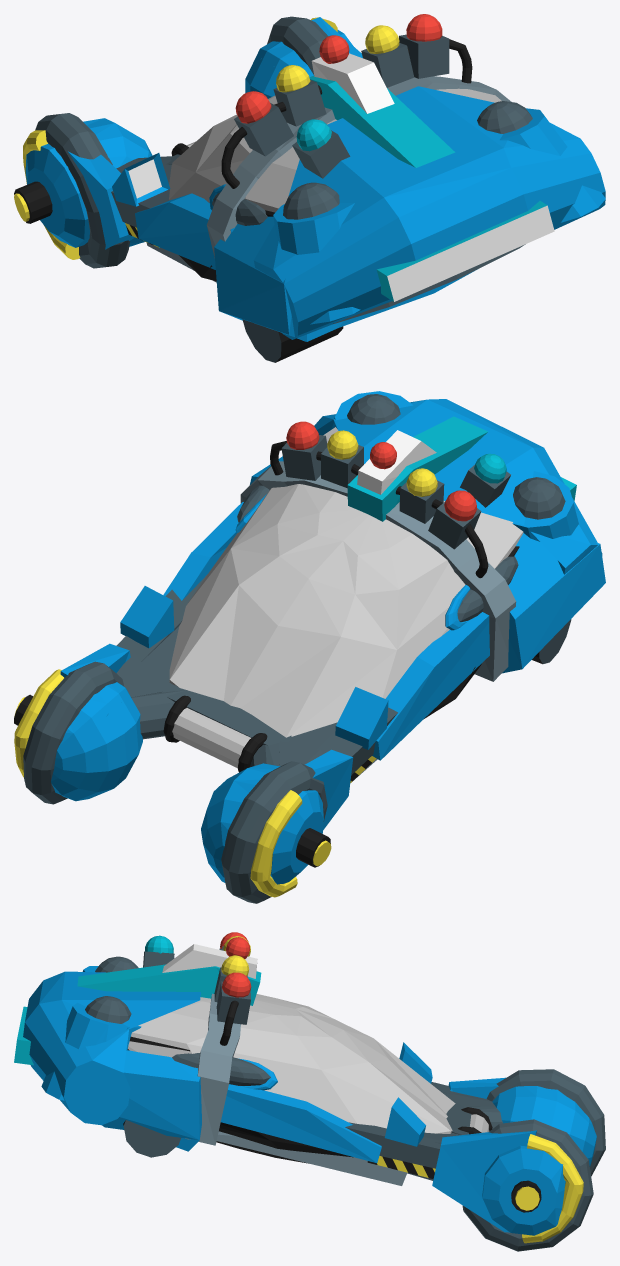
The model's file is bladerunner.fbx.
The picture shows the model from 3 angles, top to bottom: view 1: azimuth 30°, elevation 25°; view 2: azimuth 150°, elevation 25°; view 3: azimuth 270°, elevation 25°; orthographic projection. The views are drawn at different scales.
Visible parts, largest first — view 1: mesh_1991987378, mesh_1601816670, mesh_1183108955, mesh_1054601401, mesh_1691067437, mesh_1933850750, mesh_50693872, mesh_1442787304, mesh_326157511, mesh_865573290, mesh_159223930, mesh_1015086131 (+27 smaller); view 2: mesh_1183108955, mesh_1991987378, mesh_1601816670, mesh_1735434096, mesh_50693872, mesh_1933850750, mesh_552325141, mesh_326157511, mesh_1691067437, mesh_221063801, mesh_1442787304, mesh_1106189456 (+30 smaller); view 3: mesh_1183108955, mesh_1991987378, mesh_1601816670, mesh_343004383, mesh_1815929344, mesh_1897224036, mesh_221063801, mesh_552325141, mesh_877137086, mesh_1691067437, mesh_1933850750, mesh_1855935953 (+20 smaller).
Boxes of the visible parts, x1,y1,x2,y2 form: mesh_1991987378: [254, 86, 605, 339]; mesh_1601816670: [214, 216, 474, 341]; mesh_1183108955: [169, 88, 501, 212]; mesh_1054601401: [376, 201, 554, 301]; mesh_1691067437: [309, 75, 455, 167]; mesh_1933850750: [35, 113, 130, 268]; mesh_50693872: [135, 193, 234, 269]; mesh_1442787304: [25, 144, 89, 247]; mesh_326157511: [206, 107, 335, 258]; mesh_865573290: [273, 203, 360, 324]; mesh_159223930: [311, 53, 394, 113]; mesh_1015086131: [67, 151, 134, 249]; mesh_1183108955: [169, 427, 523, 737]; mesh_1991987378: [314, 399, 602, 574]; mesh_1601816670: [250, 456, 605, 673]; mesh_1735434096: [51, 682, 142, 801]; mesh_50693872: [372, 612, 489, 760]; mesh_1933850750: [221, 761, 327, 903]; mesh_552325141: [23, 661, 124, 804]; mesh_326157511: [386, 502, 516, 681]; mesh_1691067437: [347, 416, 487, 521]; mesh_221063801: [201, 763, 280, 882]; mesh_1442787304: [270, 790, 323, 884]; mesh_1106189456: [172, 708, 250, 767]; mesh_1183108955: [128, 994, 455, 1133]; mesh_1991987378: [23, 971, 200, 1125]; mesh_1601816670: [102, 1050, 201, 1151]; mesh_343004383: [221, 1084, 381, 1163]; mesh_1815929344: [482, 1145, 565, 1235]; mesh_1897224036: [432, 1130, 536, 1232]; mesh_221063801: [492, 1086, 596, 1166]; mesh_552325141: [462, 1119, 593, 1251]; mesh_877137086: [185, 993, 240, 1145]; mesh_1691067437: [77, 964, 261, 1005]; mesh_1933850750: [486, 1069, 605, 1176]; mesh_1855935953: [216, 1131, 406, 1185].
Size of the model in its own units: 28.12 by 25.42 by 48.47.
